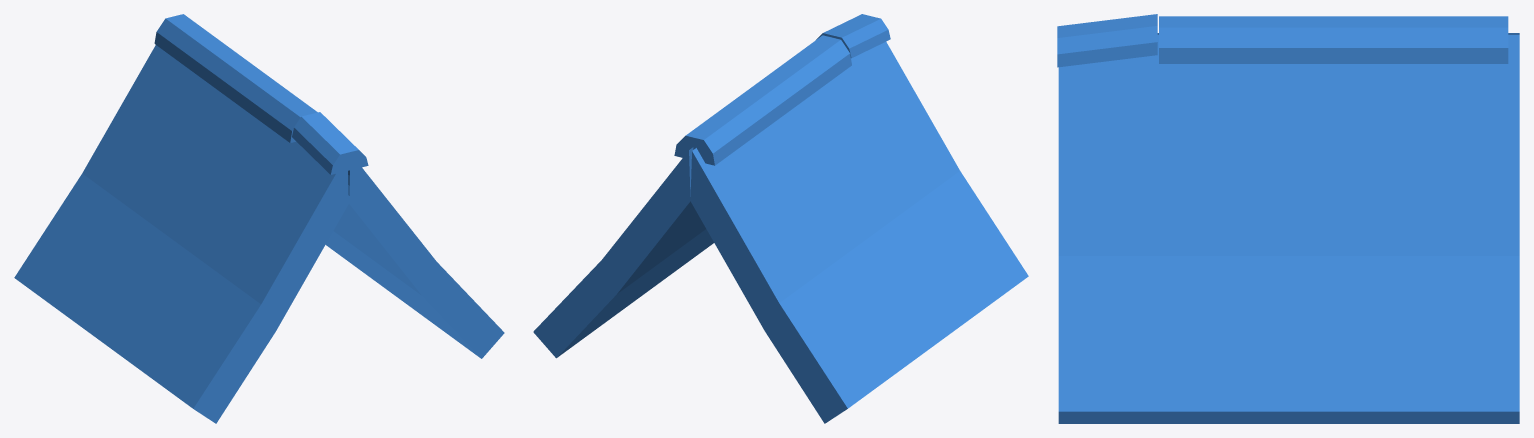
The model's file is Collision_Roof_RoundTiles_4x4.fbx.
The picture shows the model from 3 angles, left to right: view 1: azimuth 30°, elevation 25°; view 2: azimuth 150°, elevation 25°; view 3: azimuth 270°, elevation 25°; orthographic projection. The views are drawn at different scales.
Parts seen in each view (by area): view 1: UCX_Roof_RoundTiles_4x4_01; view 2: UCX_Roof_RoundTiles_4x4_01; view 3: UCX_Roof_RoundTiles_4x4_01.
Boxes of the visible parts, x1,y1,x2,y2 form: UCX_Roof_RoundTiles_4x4_01: [14, 14, 504, 423]; UCX_Roof_RoundTiles_4x4_01: [533, 14, 1028, 423]; UCX_Roof_RoundTiles_4x4_01: [1057, 14, 1519, 423].
Bounding box in the file's own units: 555 × 424 × 554.
